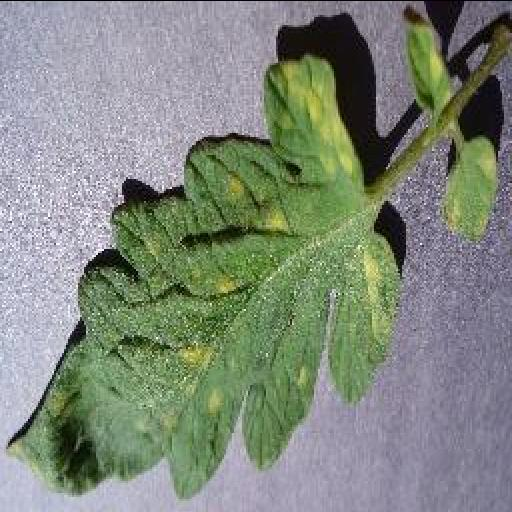disease_tomato: (3, 54, 401, 500)
